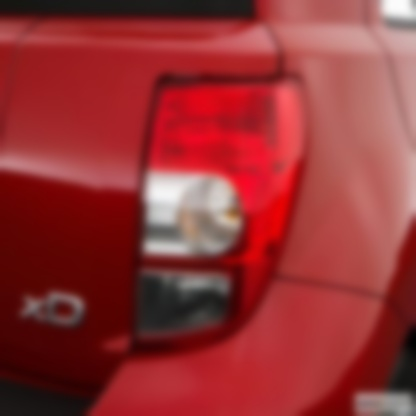Vehicle: (2, 1, 416, 412)
